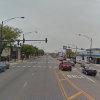Crosswalk: (14, 57, 53, 74)
